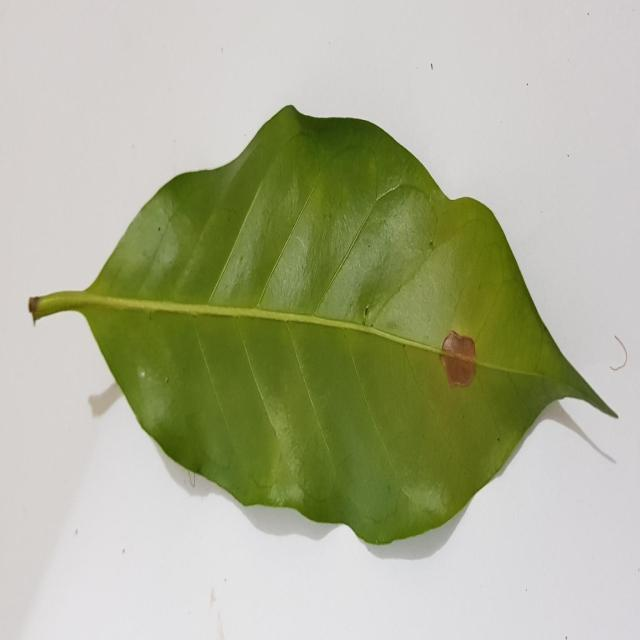Plaga-Minador: (26, 106, 616, 554)
